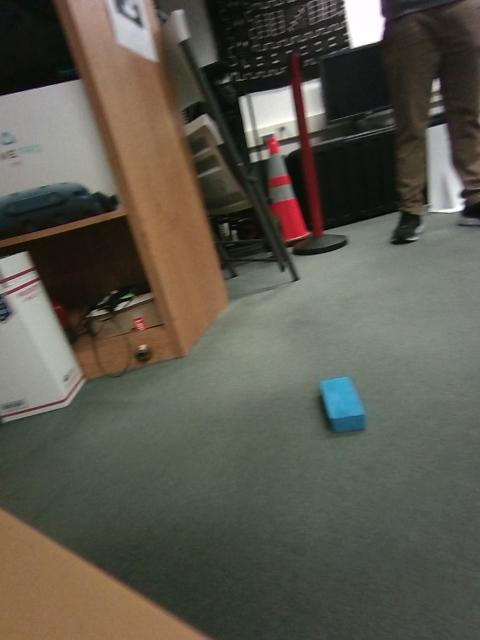block: (165, 334, 214, 381)
